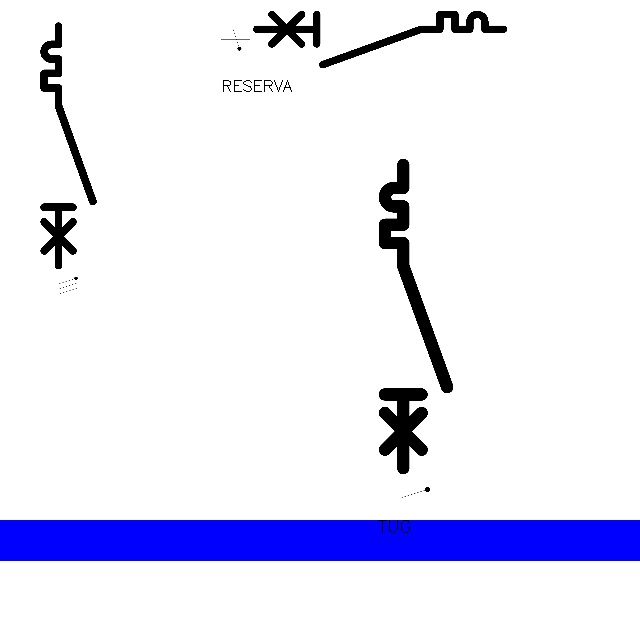interruptor_termomagnetico: (377, 157, 455, 476), (250, 8, 510, 71), (38, 20, 99, 271)
